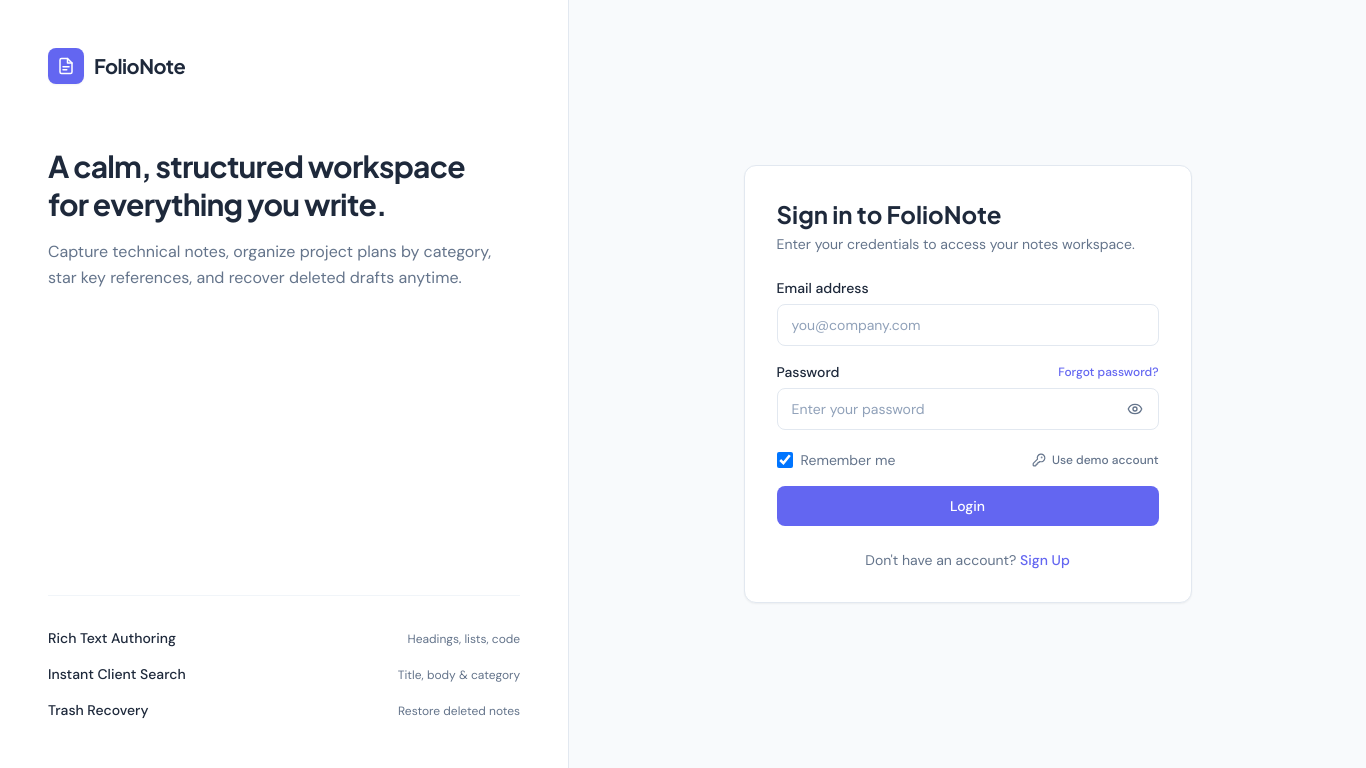
Test: Authentication Screens › displays error message for invalid login credentials
The width and height of the screenshot is (1366, 768).
Type "wrong@example.com" into the field labelled "Email address" at coordinates (968, 325), box [777, 304, 1159, 346]
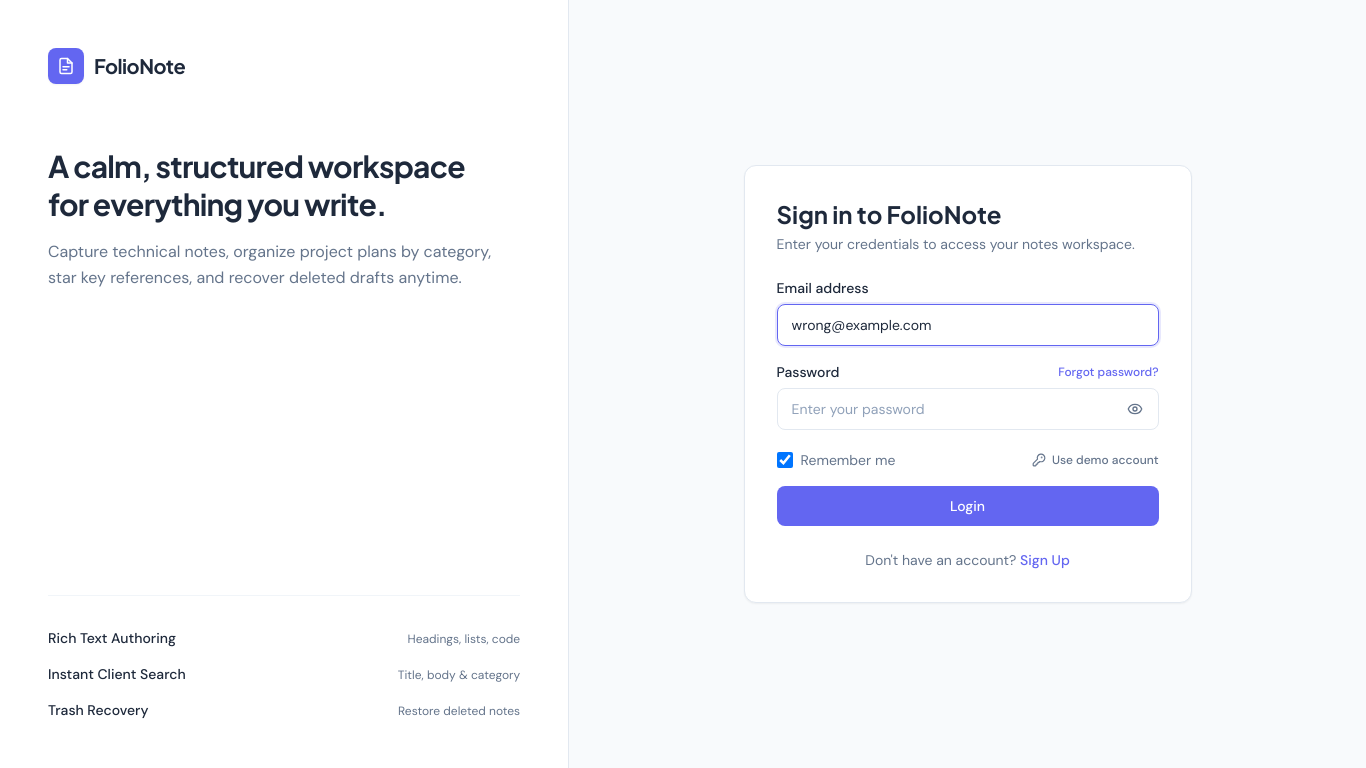
Type "WrongPass123" into the password field labelled "Password" at coordinates (968, 409), box [777, 388, 1159, 430]
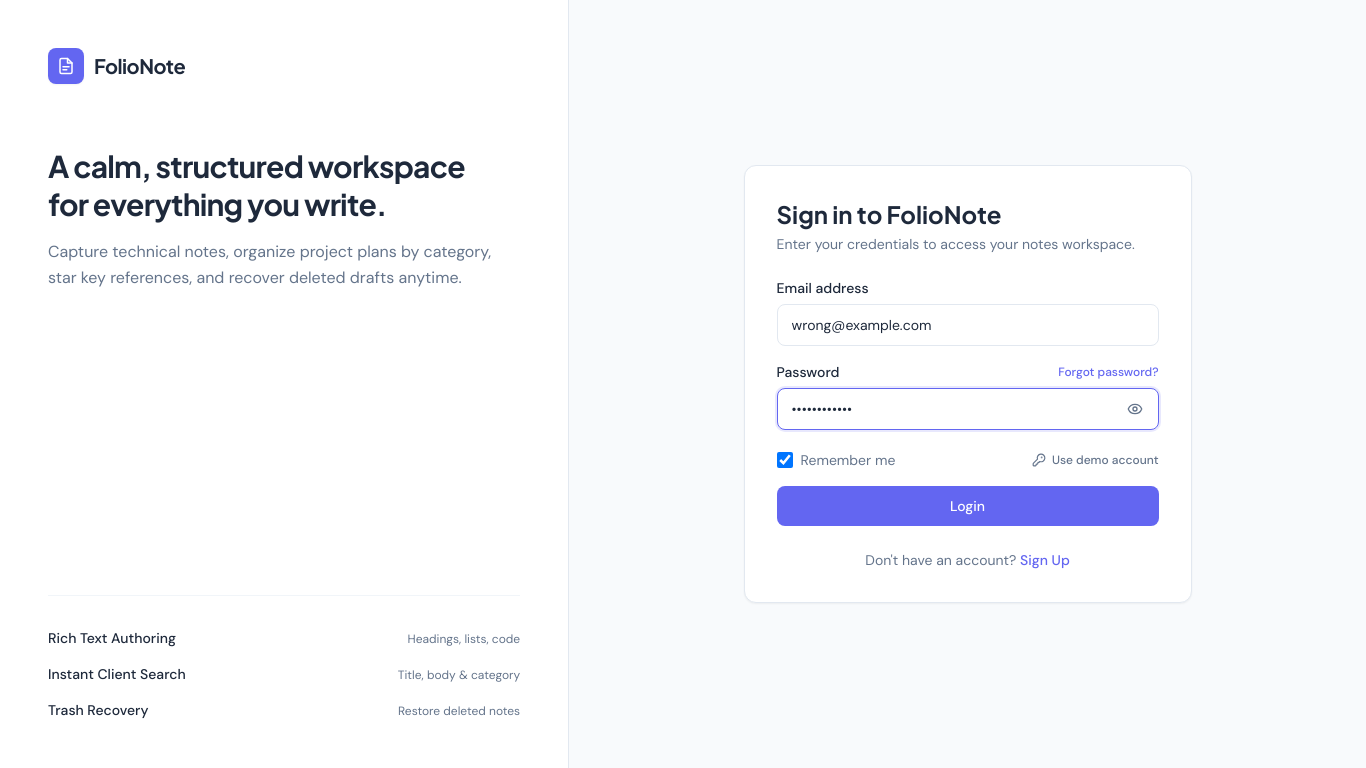
Click the button "Login" at coordinates (968, 506), box [777, 486, 1159, 526]
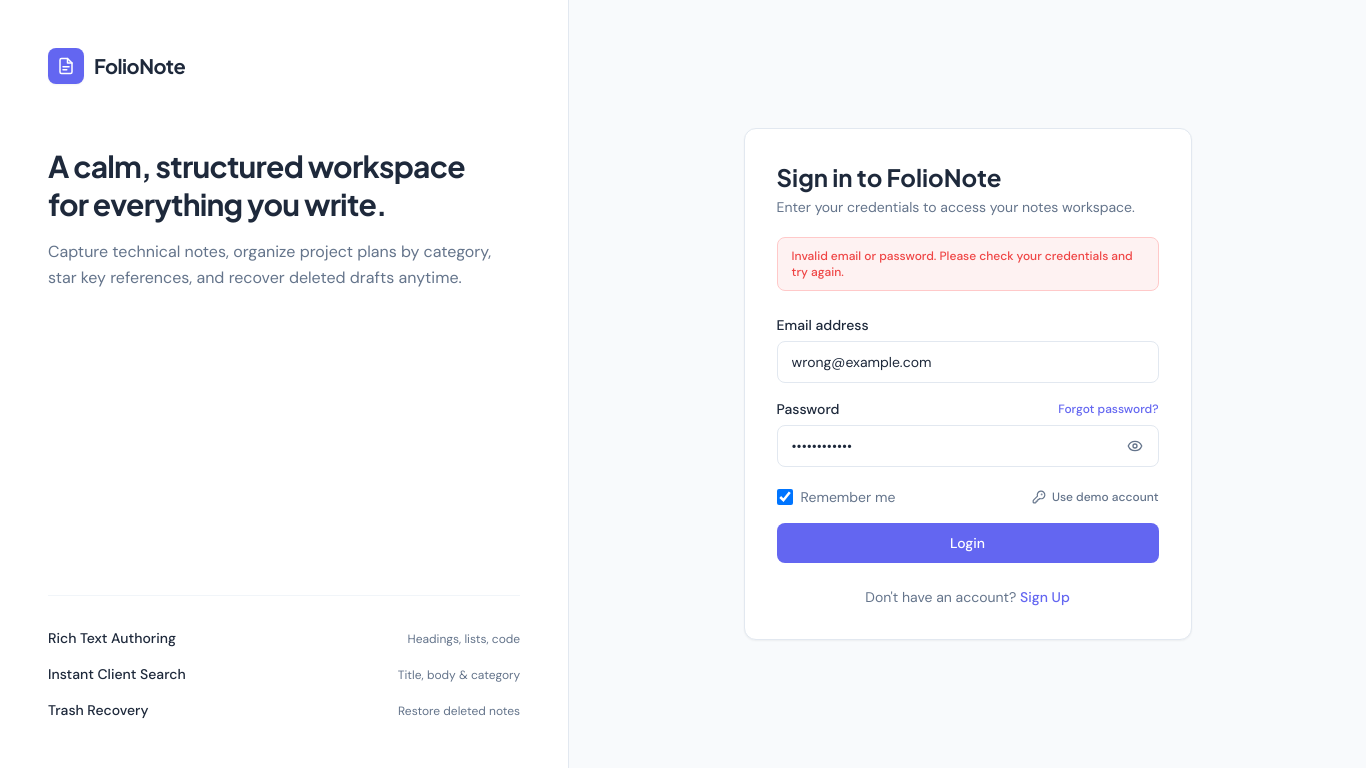
Expected: the text "Invalid email or password. Please check your credentials and try again." is shown, [777, 237, 1159, 291]
